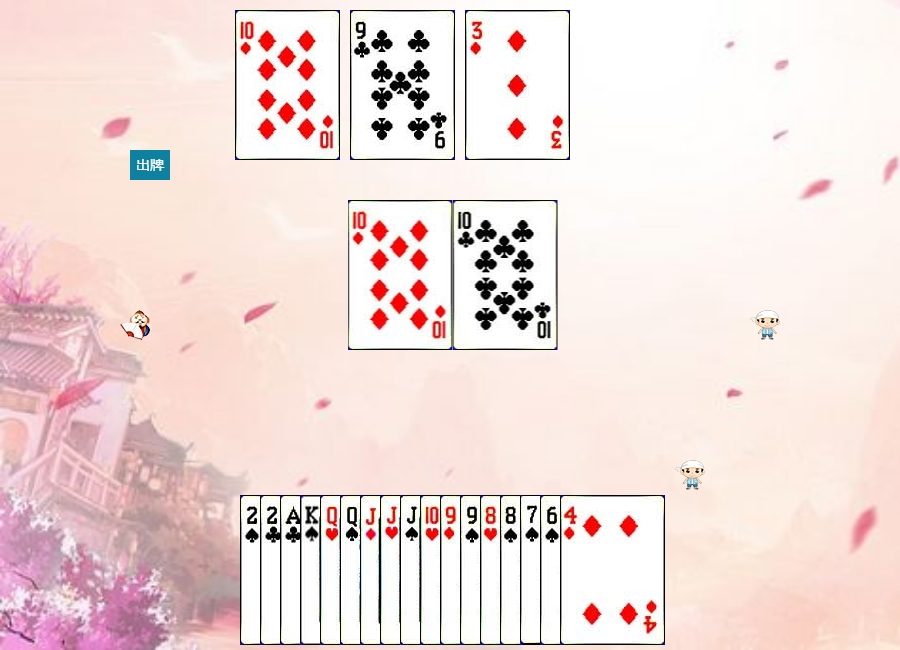10~1: (235, 10, 340, 160), (348, 200, 453, 350)
10~2: (453, 200, 558, 350)
10~3: (420, 495, 525, 645)
11~1: (360, 495, 465, 645)
11~3: (380, 495, 485, 645)
11~4: (400, 495, 505, 645)
12~3: (320, 495, 425, 645)
12~4: (340, 495, 445, 645)
13~4: (300, 495, 405, 645)
14~2: (280, 495, 385, 645)
15~2: (260, 495, 365, 645)
15~4: (240, 495, 345, 645)
3~1: (465, 10, 570, 160)
4~1: (560, 495, 665, 645)
6~4: (540, 495, 645, 645)
7~4: (520, 495, 625, 645)
8~3: (480, 495, 585, 645)
8~4: (500, 495, 605, 645)
9~1: (440, 495, 545, 645)
9~2: (350, 10, 455, 160)
9~4: (460, 495, 565, 645)
